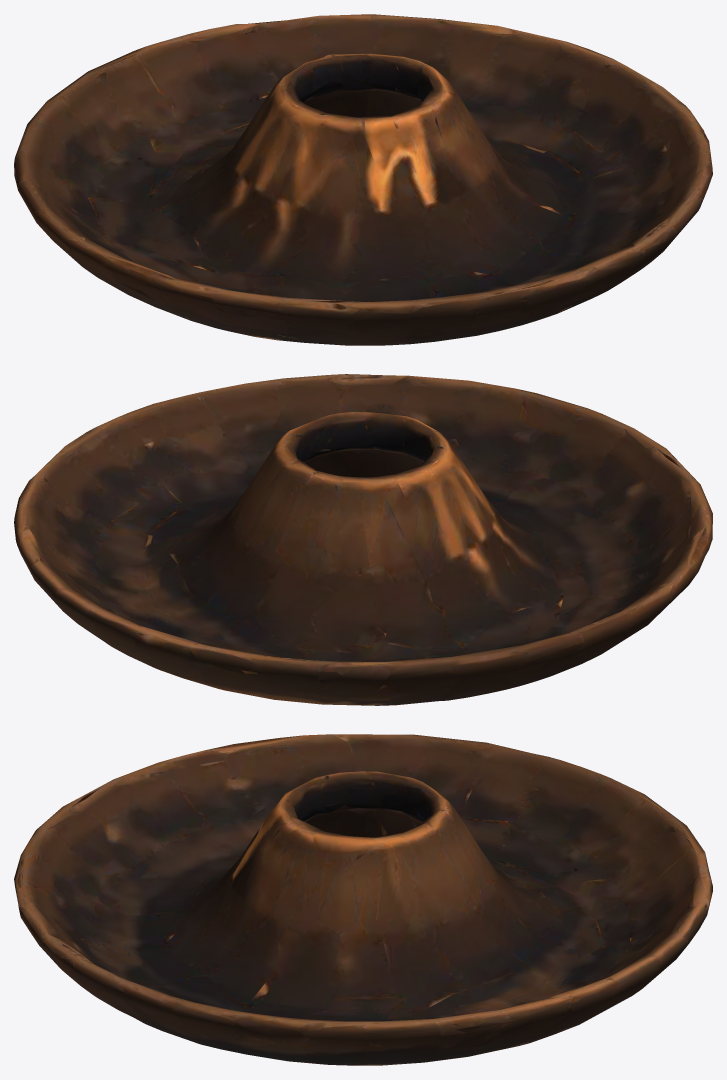
Rendered from volcano-bowl.glb.
The picture shows the model from 3 angles, top to bottom: view 1: azimuth 30°, elevation 25°; view 2: azimuth 150°, elevation 25°; view 3: azimuth 270°, elevation 25°; orthographic projection.
Bounding box in the file's own units: 1.9 × 0.4649 × 1.9.
Materials: 1 (1 with a texture image).
